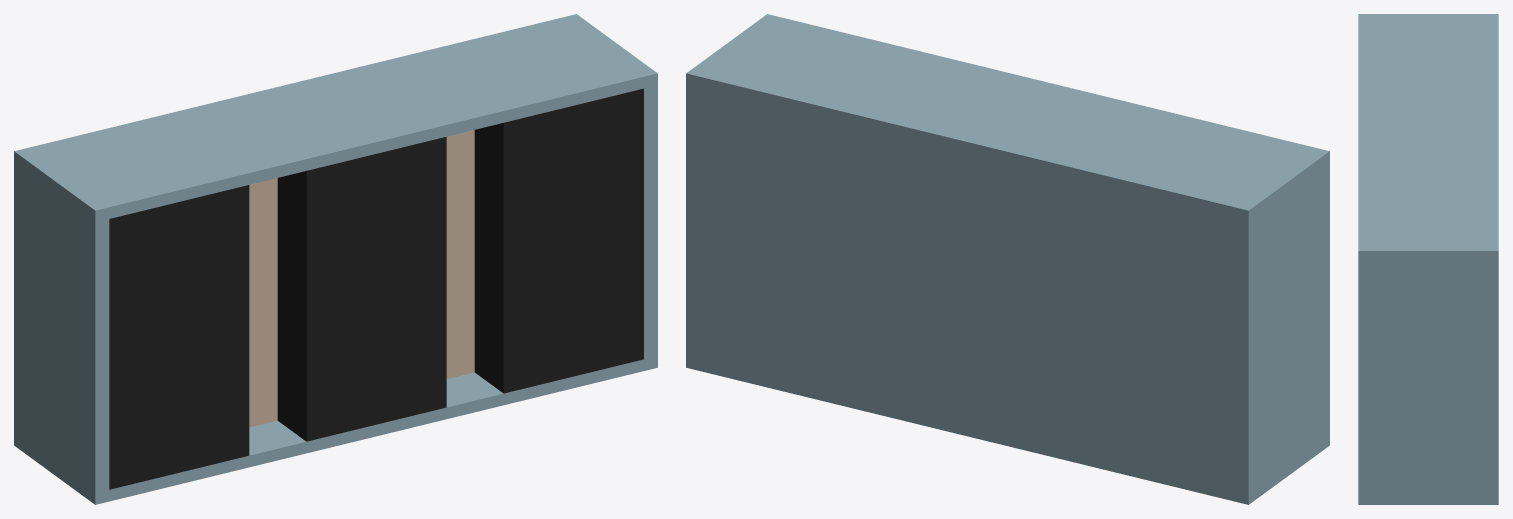
File: Block1A.fbx
3 renders of one model, left to right at view 1: azimuth 30°, elevation 25°; view 2: azimuth 150°, elevation 25°; view 3: azimuth 270°, elevation 25°, orthographic. The views are drawn at different scales.
Visible parts, largest first — view 1: Block1; view 2: Block1; view 3: Block1.
Boxes of the visible parts, left/top/right/bottom form: Block1: left=14, top=14, right=657, bottom=504; Block1: left=686, top=14, right=1329, bottom=504; Block1: left=1358, top=14, right=1498, bottom=504.
Size of the model in its own units: 2 by 1 by 0.5.
